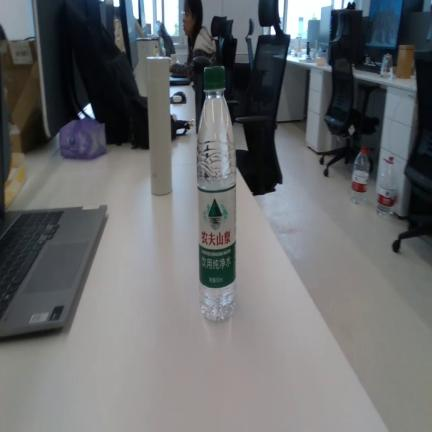bottle: (197, 66, 237, 322), (376, 155, 397, 217), (351, 147, 370, 204)
